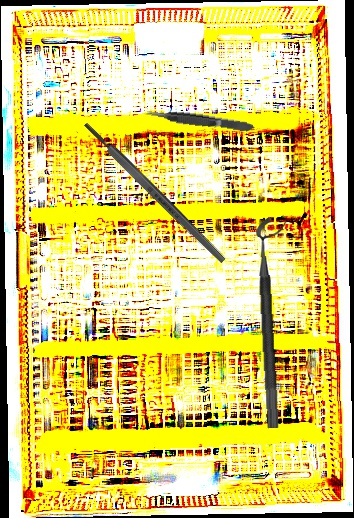Fixation Ring: (255, 217, 297, 429)
Scalpel Handle: (81, 119, 228, 266)
Tissue Forceps: (142, 105, 256, 136)
